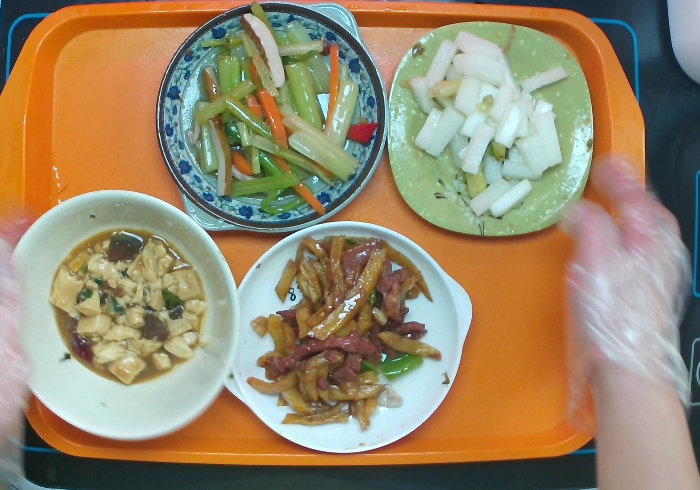NLDX-Bai_Se_Shuang_Er_Die: (224, 228, 480, 464)
NLDX-Bai_Se_Yuan_Wan: (1, 183, 258, 430)
NLDX-Lv_Hua_Fang_Die: (384, 19, 599, 237)
NLDX-Qing_Hua_Shuang_Er_Die: (159, 1, 385, 248)
